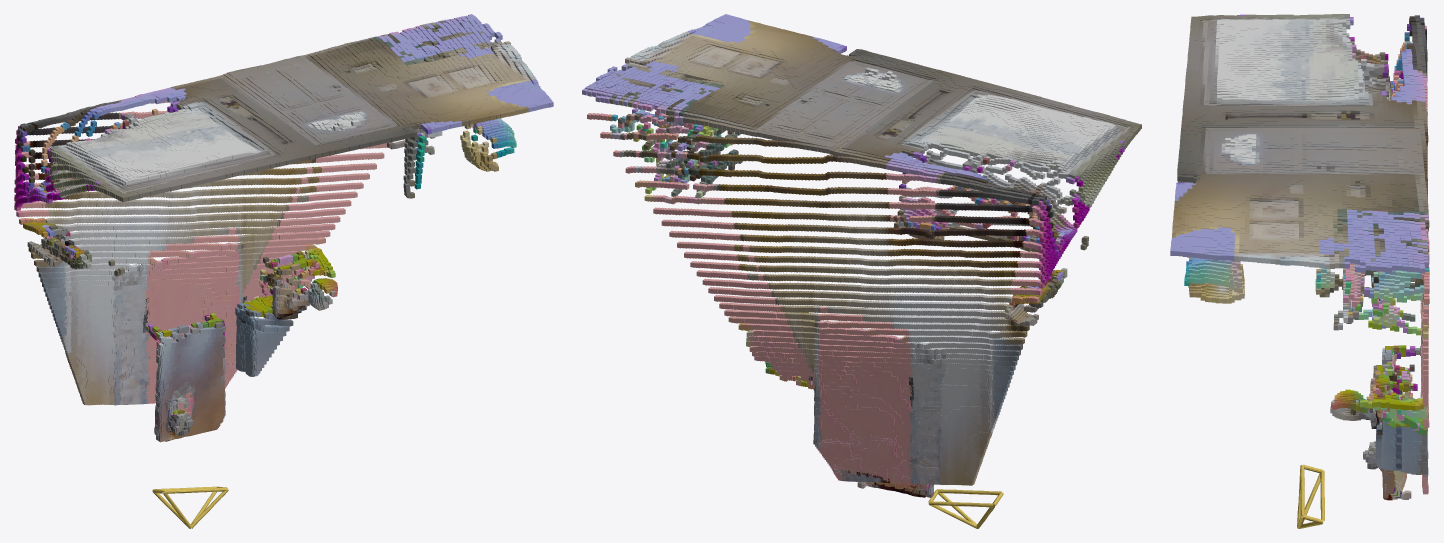
The picture shows the model from 3 angles, left to right: view 1: azimuth 30°, elevation 25°; view 2: azimuth 150°, elevation 25°; view 3: azimuth 270°, elevation 25°; orthographic projection. The views are drawn at different scales.
Bounding box in the file's own units: 5.67 × 4.72 × 2.43.
